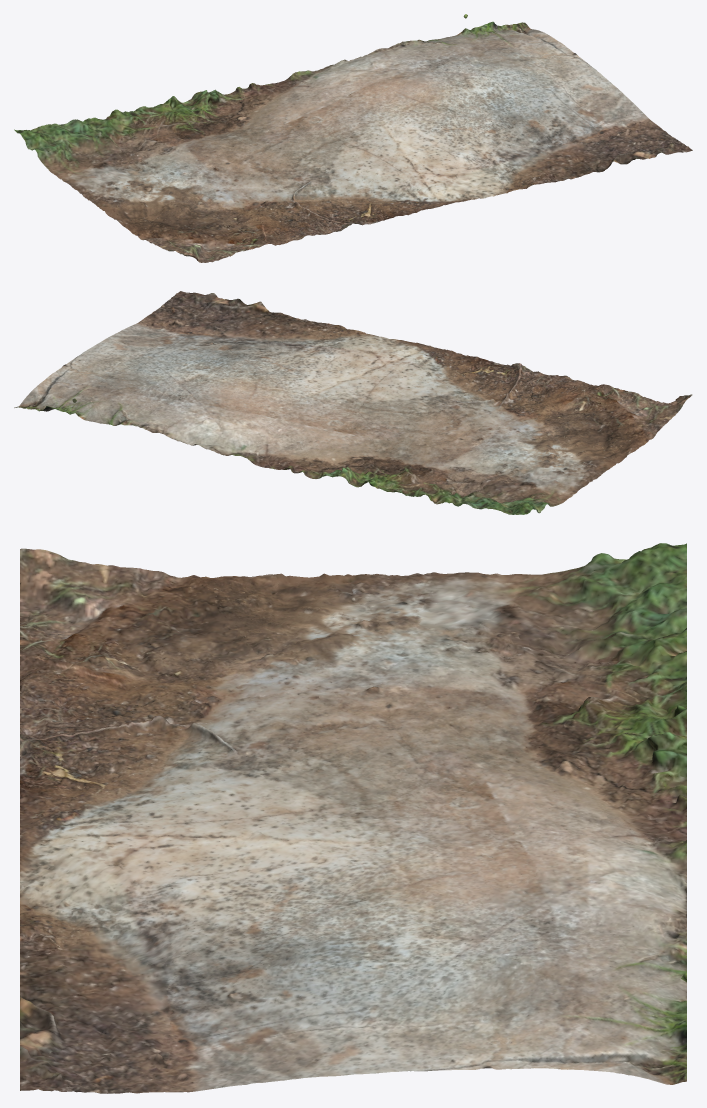
Rendered from dalle-06.glb.
3 renders of one model, top to bottom at view 1: azimuth 30°, elevation 25°; view 2: azimuth 150°, elevation 25°; view 3: azimuth 270°, elevation 25°, orthographic. The views are drawn at different scales.
Parts seen in each view (by area): view 1: Node1; view 2: Node1; view 3: Node1.
Boxes of the visible parts, left/top/right/bottom form: Node1: left=14, top=14, right=692, bottom=262; Node1: left=14, top=291, right=692, bottom=514; Node1: left=20, top=543, right=686, bottom=1093.
Size of the model in its own units: 0.9246 by 0.0537 by 0.5215.
1 material, 1 textured.
